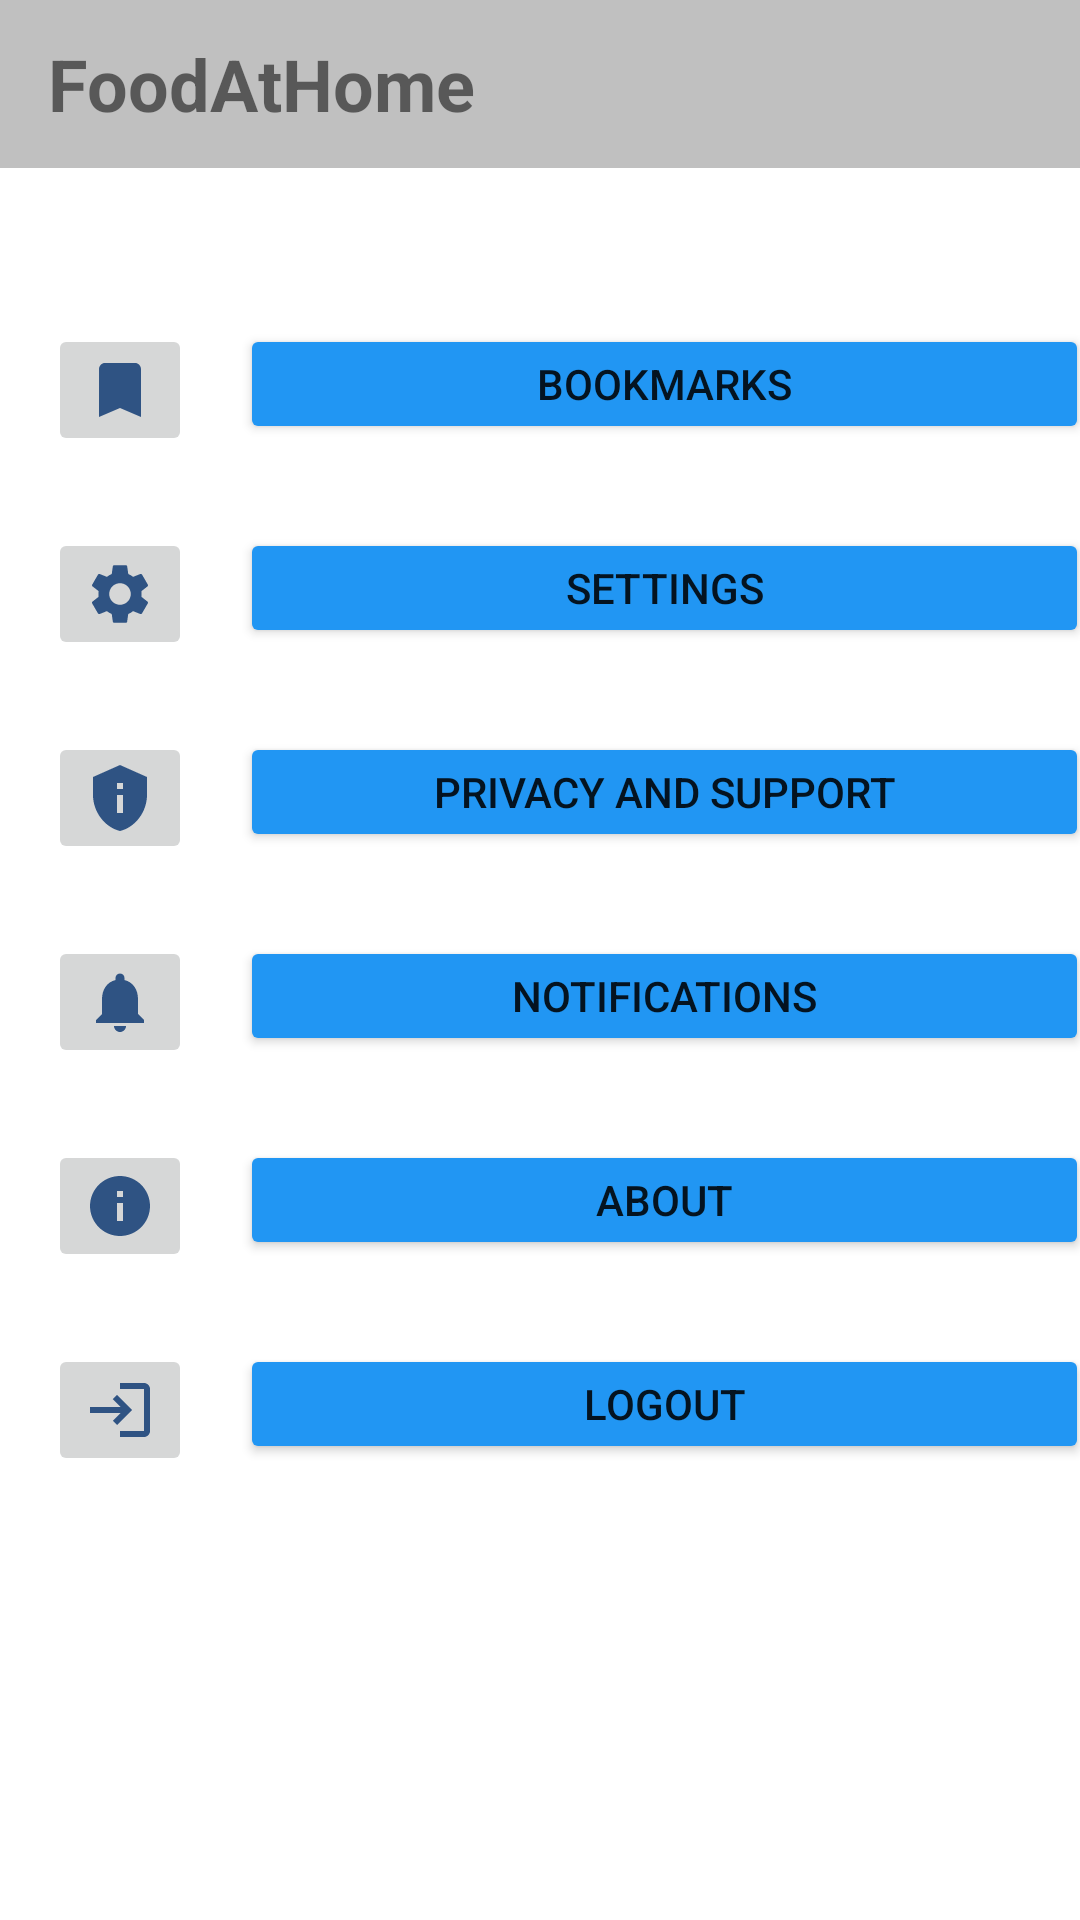

Screen size 1080 × 1920. Icon name, then its box in pixels as (x1, y1, x2, y2):
info: (60, 1158, 180, 1254)
login: (60, 1362, 180, 1458)
privacy tip: (60, 750, 180, 846)
